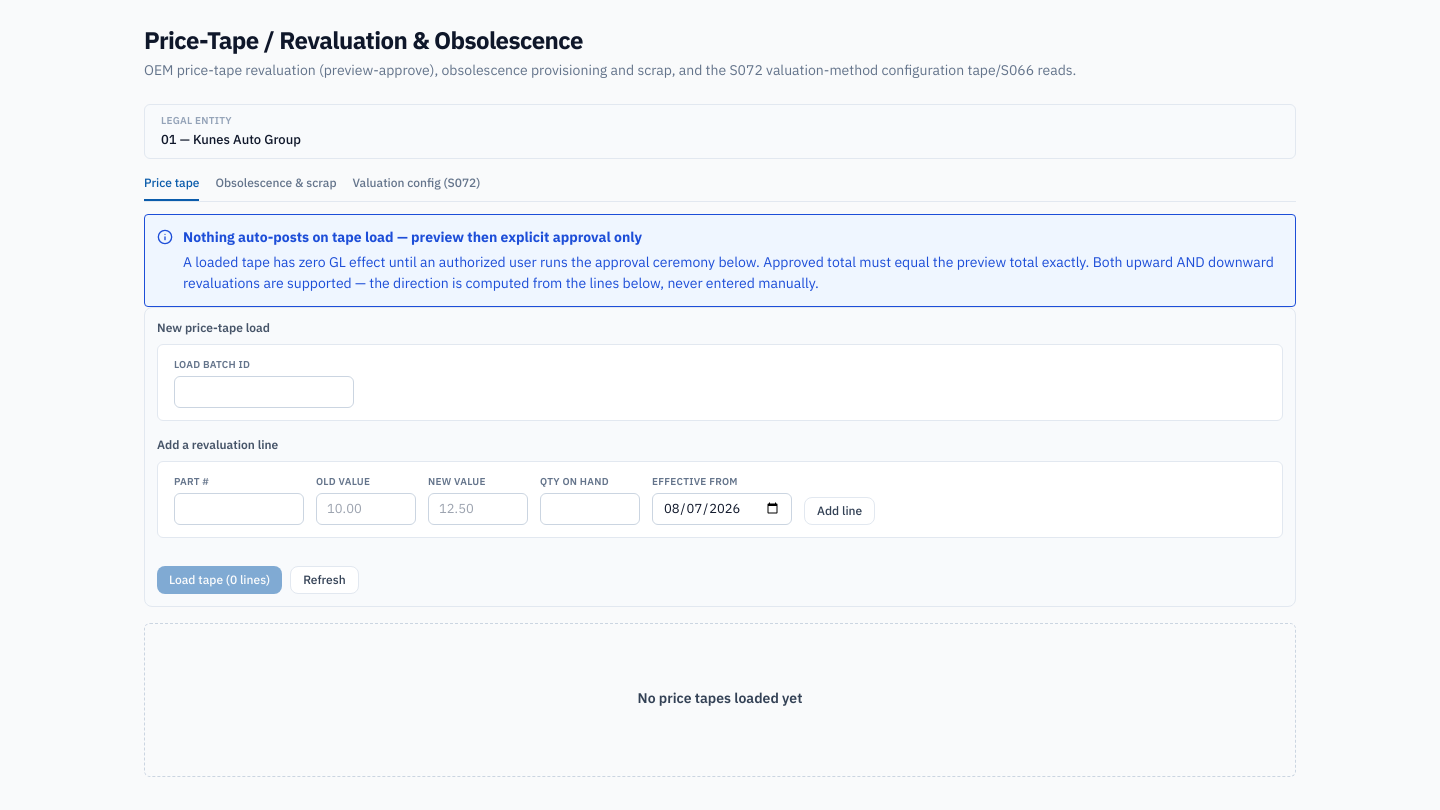
Test case: PartsValuation › price-tape: shows the unauthorized state on a 401/403 response
Click the button with test id "pricetape-refresh".
click(324, 580)  # box [290,566,359,594]
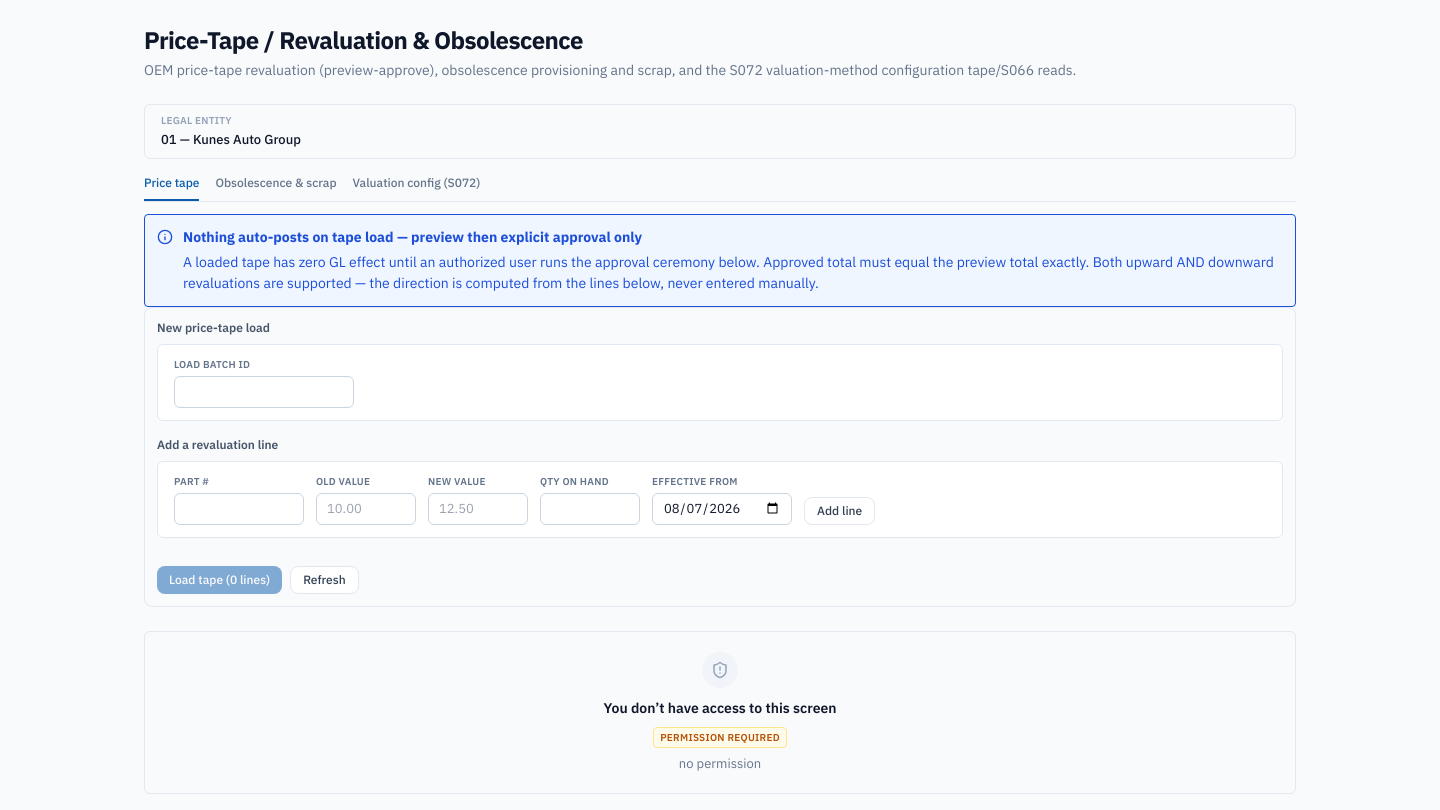
Expected: the element with test id "pricetape-unauthorized" is shown, [144,630,1296,794]
